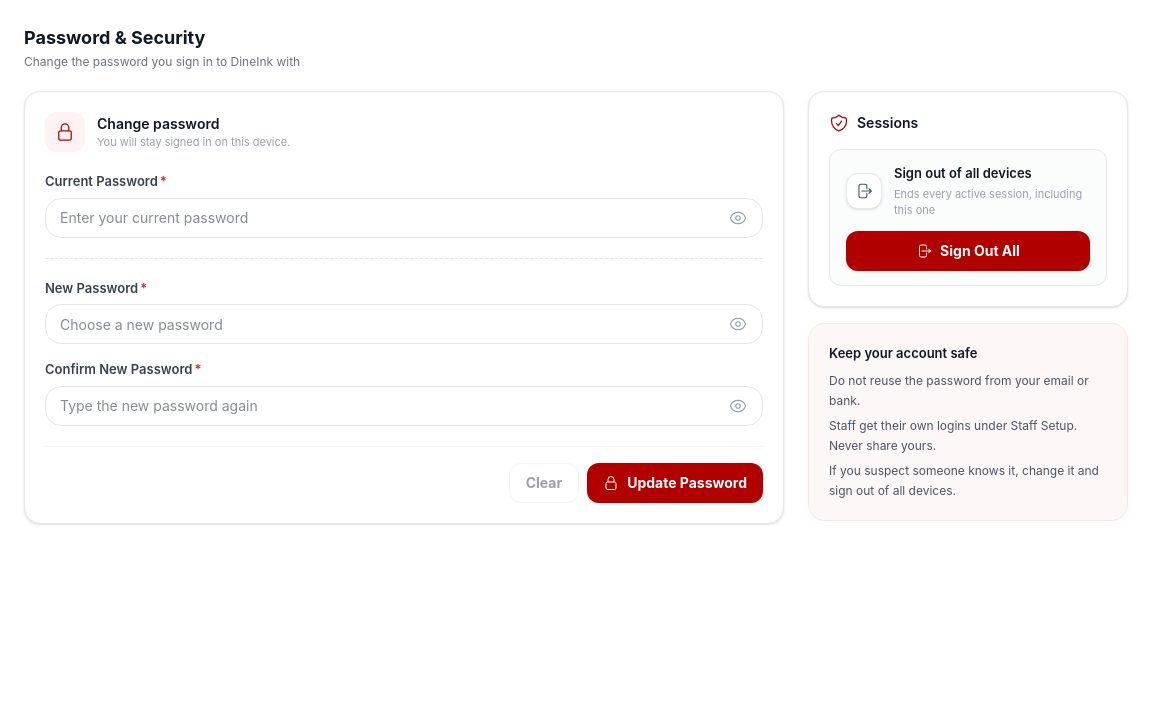
PasswordTab › reveals a password when its eye button is pressed
The width and height of the screenshot is (1152, 720).
Click the button named "show new password" at (738, 324), box [725, 311, 751, 337]
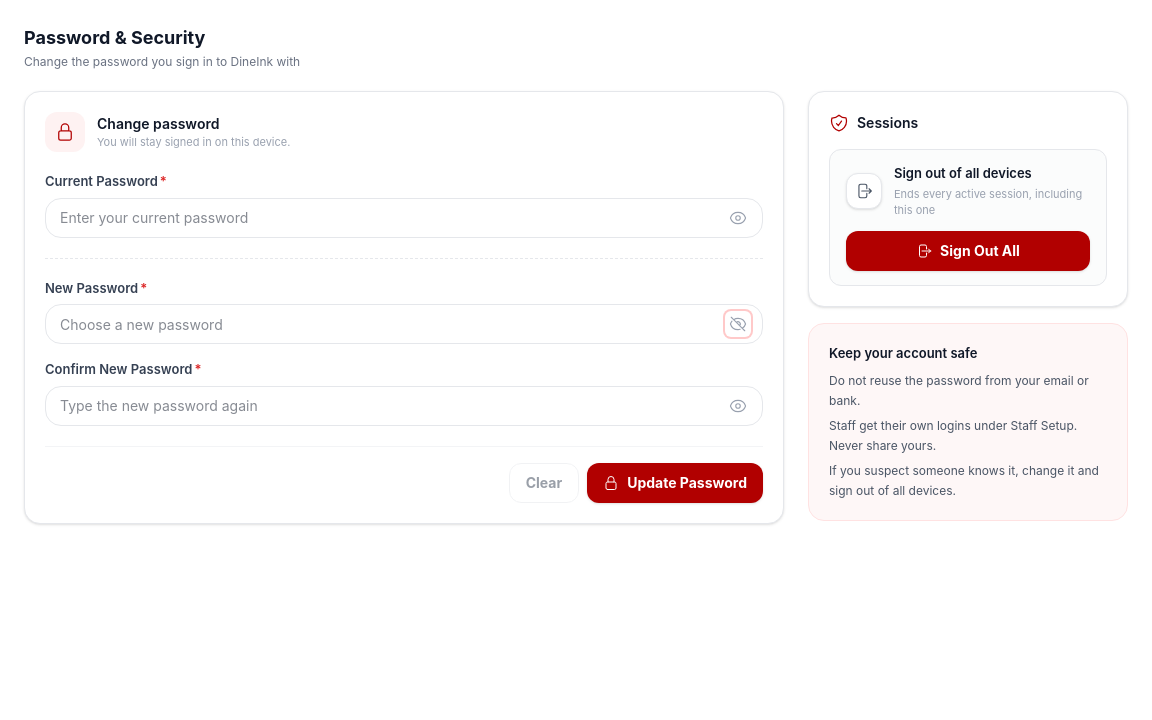
Expected: the button named "hide new password" is shown, [725, 311, 751, 337]
